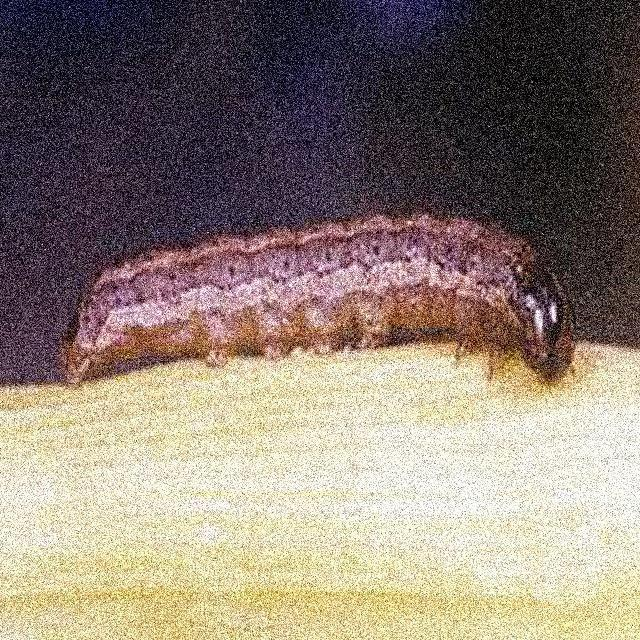gusano_cogollero: (61, 206, 582, 393)
